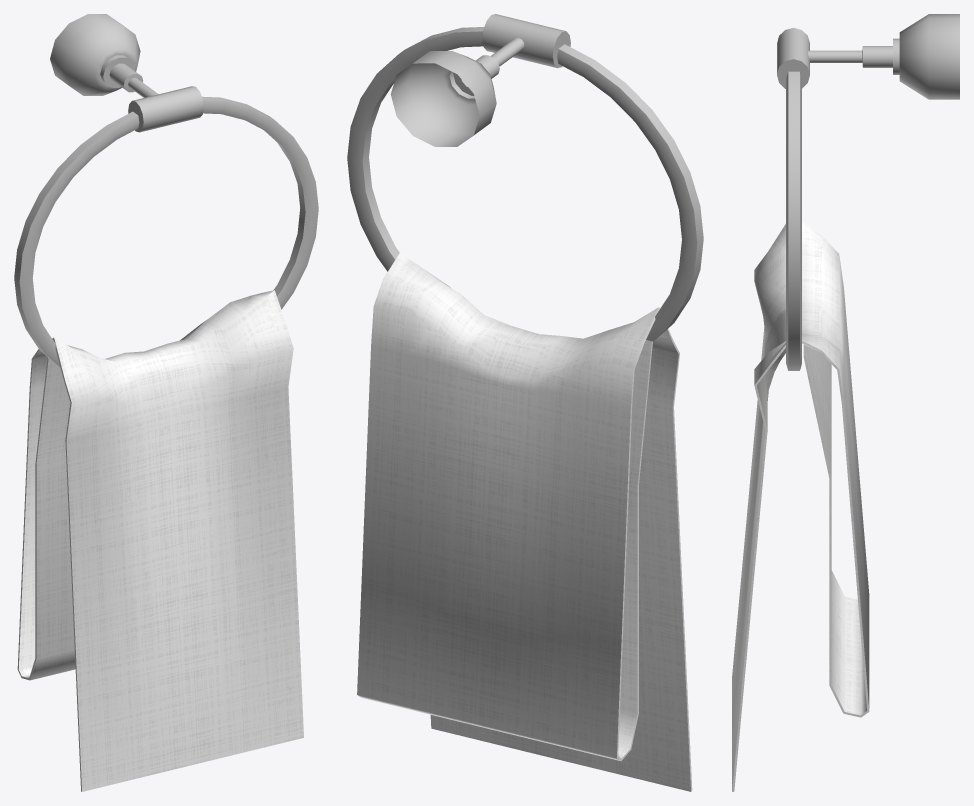
Rendered from Towel_Holder_2.fbx.
3 renders of one model, left to right at view 1: azimuth 30°, elevation 25°; view 2: azimuth 150°, elevation 25°; view 3: azimuth 270°, elevation 25°, orthographic. The views are drawn at different scales.
Parts seen in each view (by area): view 1: Towel_Holder_2; view 2: Towel_Holder_2; view 3: Towel_Holder_2.
Boxes of the visible parts, left/top/right/bottom form: Towel_Holder_2: left=14, top=14, right=318, bottom=791; Towel_Holder_2: left=347, top=14, right=703, bottom=791; Towel_Holder_2: left=732, top=14, right=959, bottom=791.
Bounding box in the file's own units: 28.05 × 60.24 × 17.36.
